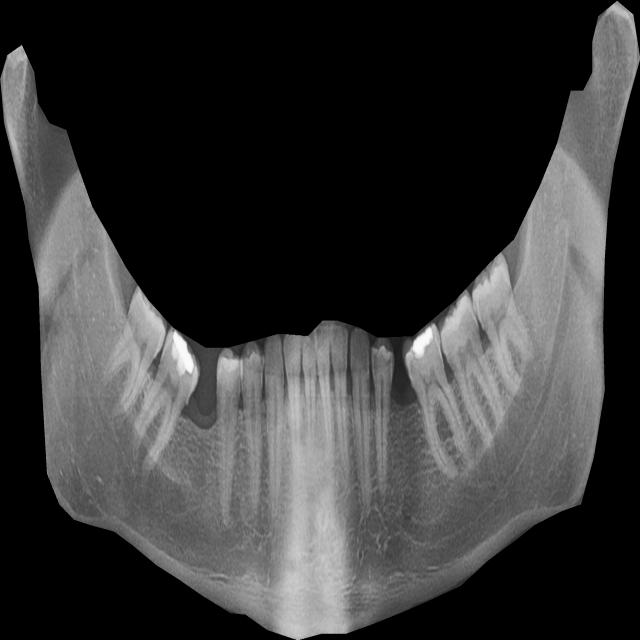mandibula: (0, 1, 640, 640)
